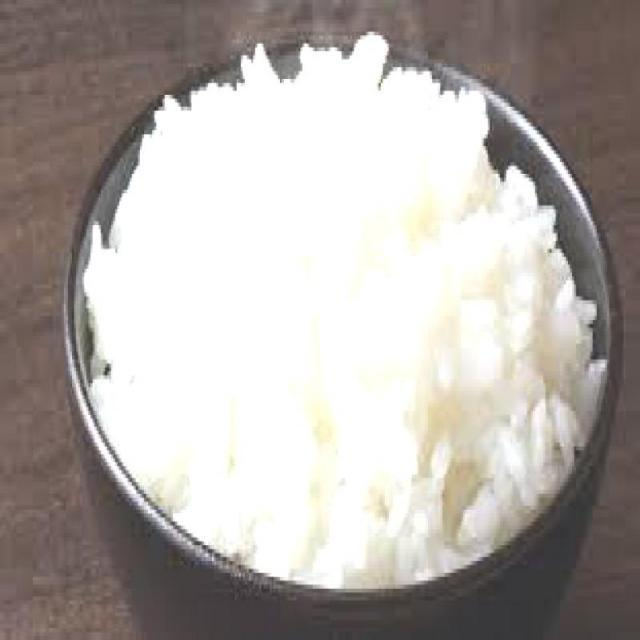rice: (82, 33, 605, 586)
